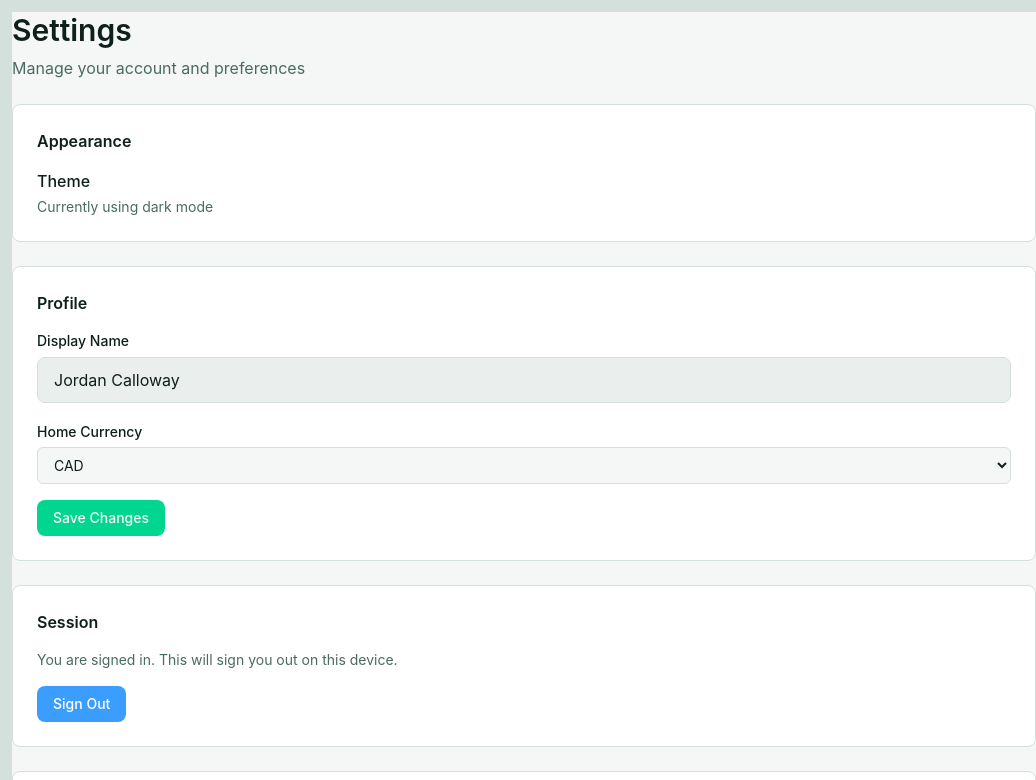
Test: Settings page › save profile › shows error message when the save request fails
Click the button "Save Changes".
click(101, 518)  # box [37,500,165,536]
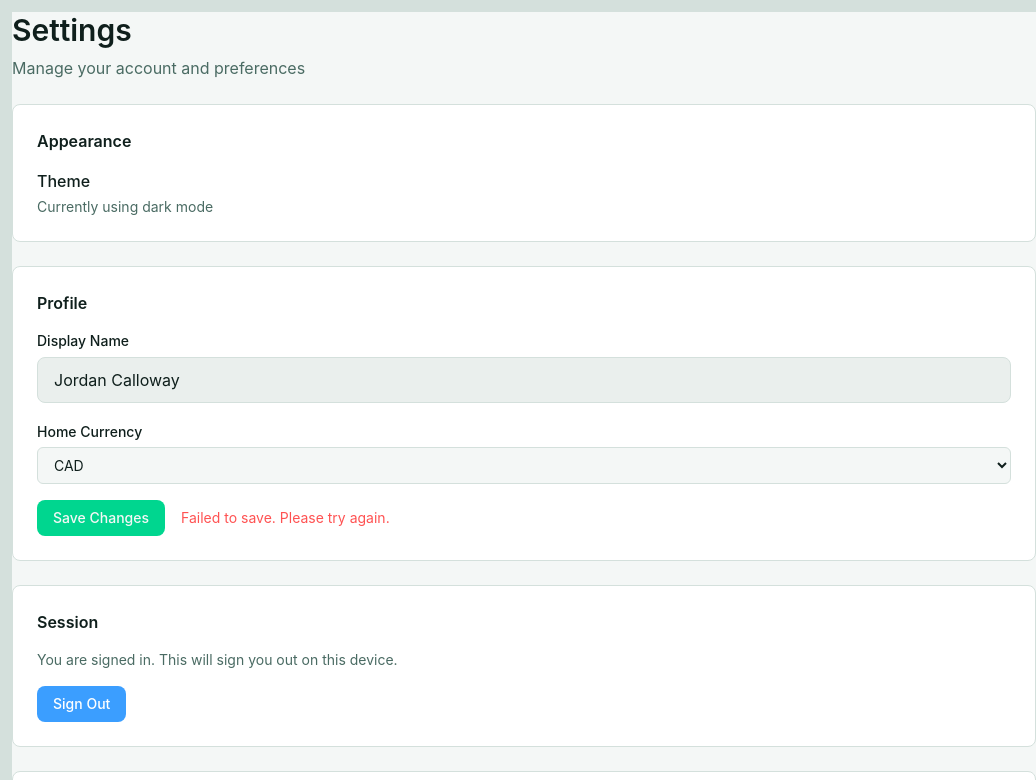
Check: the text "Failed to save. Please try again." is shown, box [181,508,390,528]
